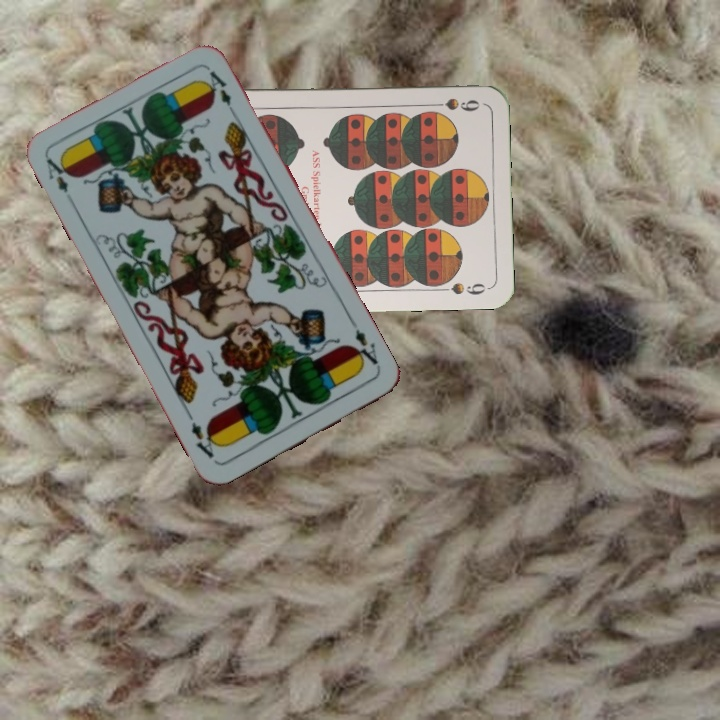EA: (346, 318, 383, 372), (42, 151, 74, 196)
S9: (424, 94, 482, 114)
